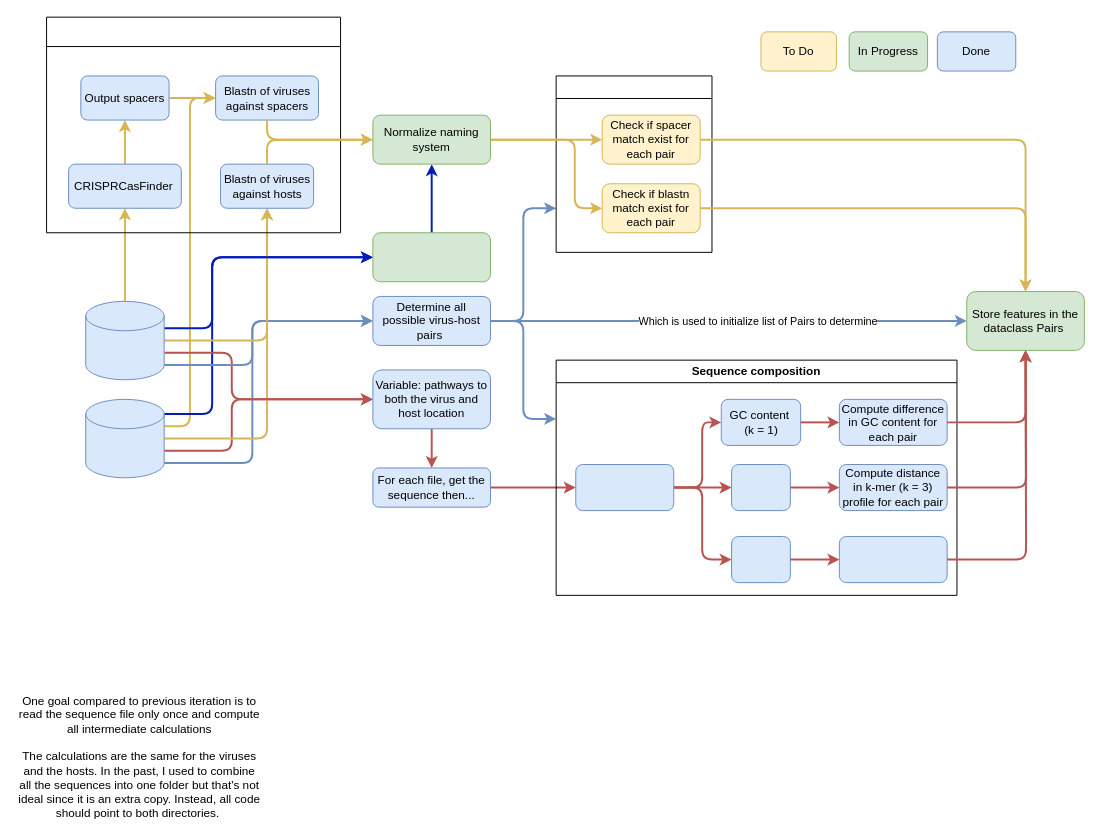
Image size: 1102x838. Some labels were removed from this diagram. The box of each missing label's shape, as (x1, y1, x2, y2) in pixels:
Compute distance in k-mer (k = 6) profile for each pair: (838, 536, 947, 583)
Compute k-mer profile for each sequence: (575, 464, 674, 511)
Directory of hosts of interest: (85, 300, 164, 380)
Directory of viruses of interest: (85, 398, 164, 478)
k = 3: (731, 464, 790, 511)
k = 6: (731, 536, 790, 583)
Outside tools (to be done separately by user): (46, 16, 341, 233)
Retrieve headers in all sequences: (372, 232, 490, 282)
Sequence homology: (555, 75, 712, 252)
